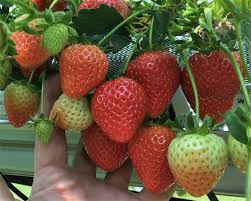ripe: (183, 47, 242, 121), (132, 121, 185, 195), (93, 73, 146, 145), (125, 45, 177, 116), (78, 117, 135, 175)
unripe: (168, 130, 227, 198), (58, 44, 109, 97), (49, 86, 95, 130), (7, 26, 53, 70), (5, 75, 39, 131), (225, 117, 249, 174), (42, 20, 69, 55), (38, 116, 55, 143)
